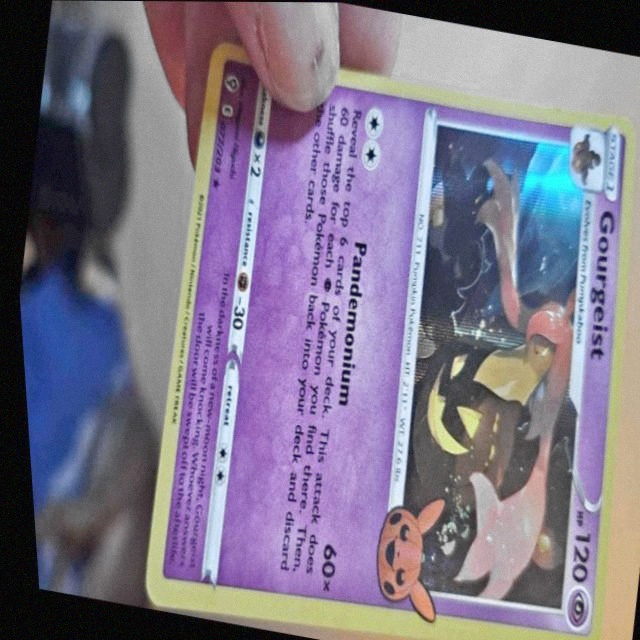card: (136, 38, 636, 640)
